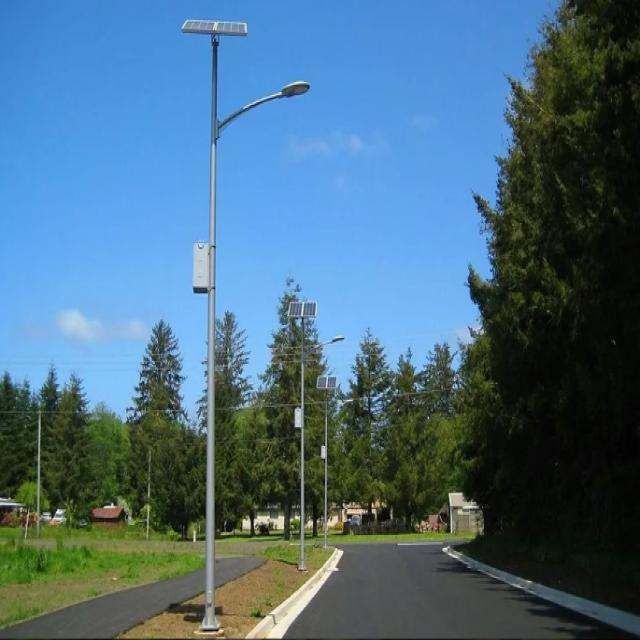Electric pole: (182, 19, 310, 634)
